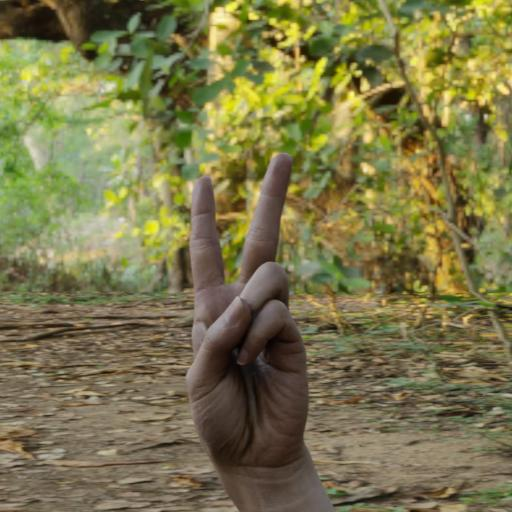V: (176, 150, 314, 466)
